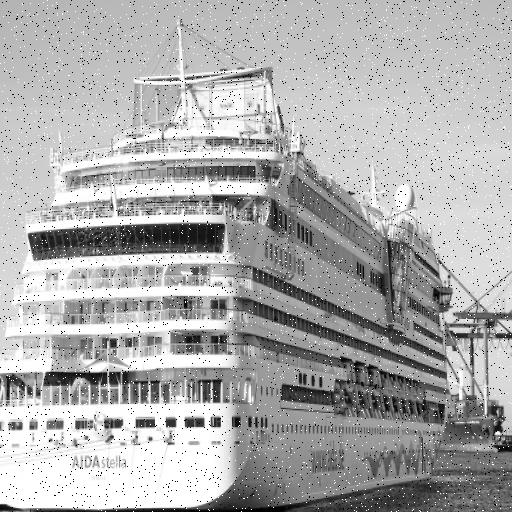cruises: (1, 15, 455, 512)
